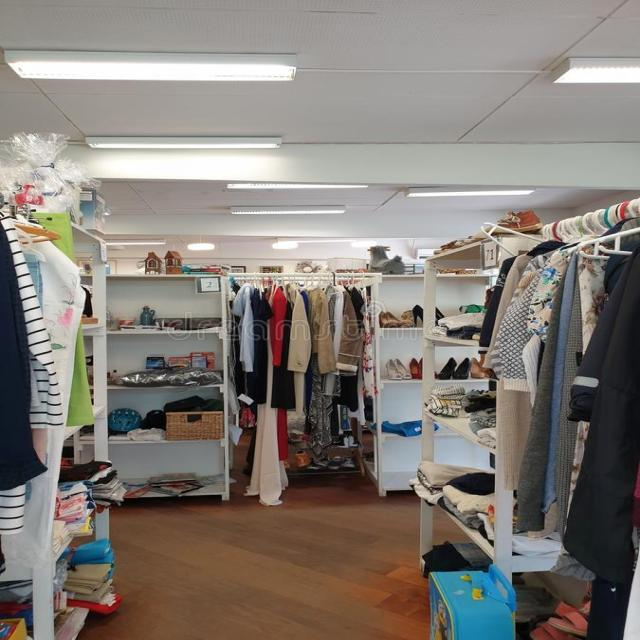clothes: (246, 301, 364, 498)
